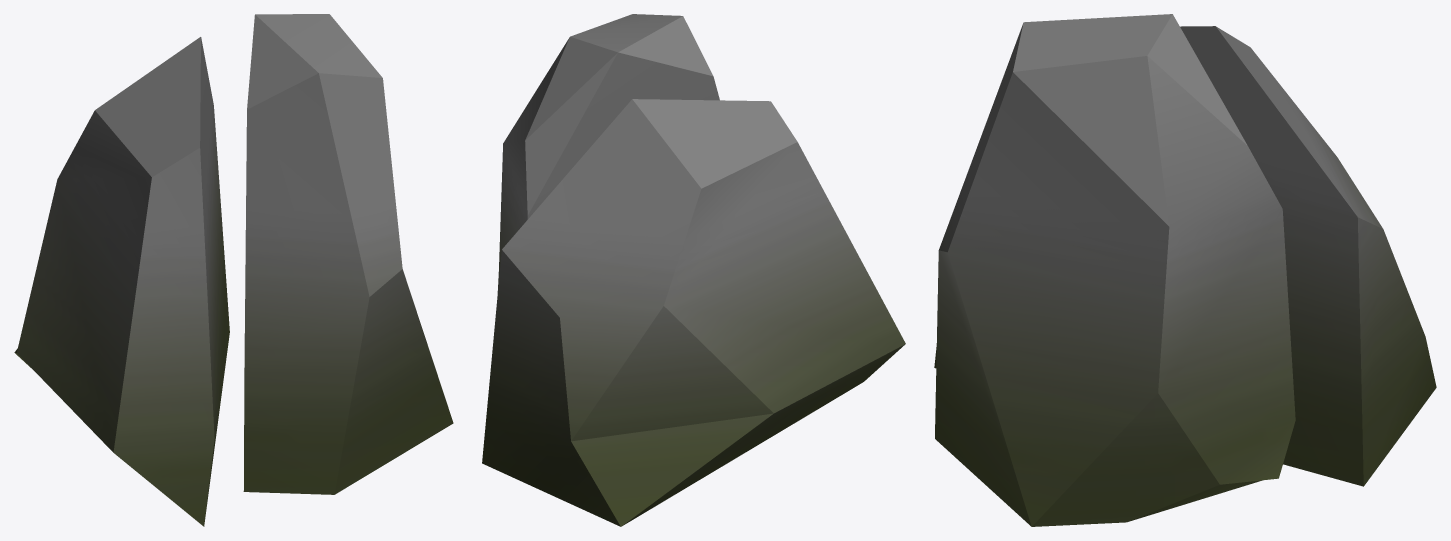
Rendered from ea_environment_stone_moss_01b_pre__18__lev1.glb.
3 views of the same model, side by side, from view 1: azimuth 30°, elevation 25°; view 2: azimuth 150°, elevation 25°; view 3: azimuth 270°, elevation 25° (orthographic). The views are drawn at different scales.
Parts seen in each view (by area): view 1: ea_environment_stone_moss_01b_pre__18__lev1; view 2: ea_environment_stone_moss_01b_pre__18__lev1; view 3: ea_environment_stone_moss_01b_pre__18__lev1.
Boxes of the visible parts, left/top/right/bottom form: ea_environment_stone_moss_01b_pre__18__lev1: left=14, top=14, right=453, bottom=526; ea_environment_stone_moss_01b_pre__18__lev1: left=482, top=14, right=905, bottom=526; ea_environment_stone_moss_01b_pre__18__lev1: left=934, top=14, right=1436, bottom=526.
Bounding box in the file's own units: 1.72 × 1.8 × 1.87.
Materials: 1 (1 with a texture image).
